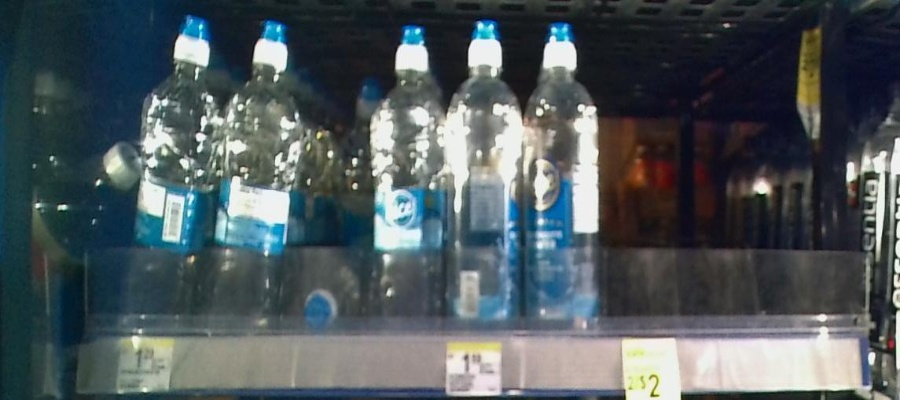bottle: (220, 9, 299, 327), (447, 17, 524, 331), (137, 14, 214, 321), (528, 14, 598, 336), (371, 22, 442, 327), (310, 237, 359, 327)
